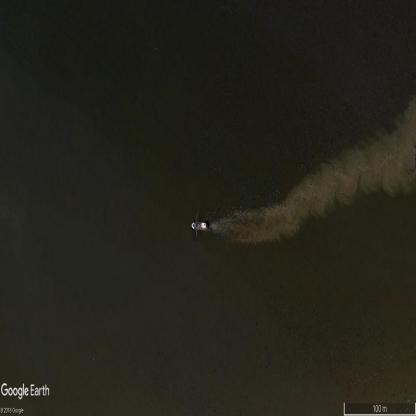ship: (192, 221, 206, 230)
